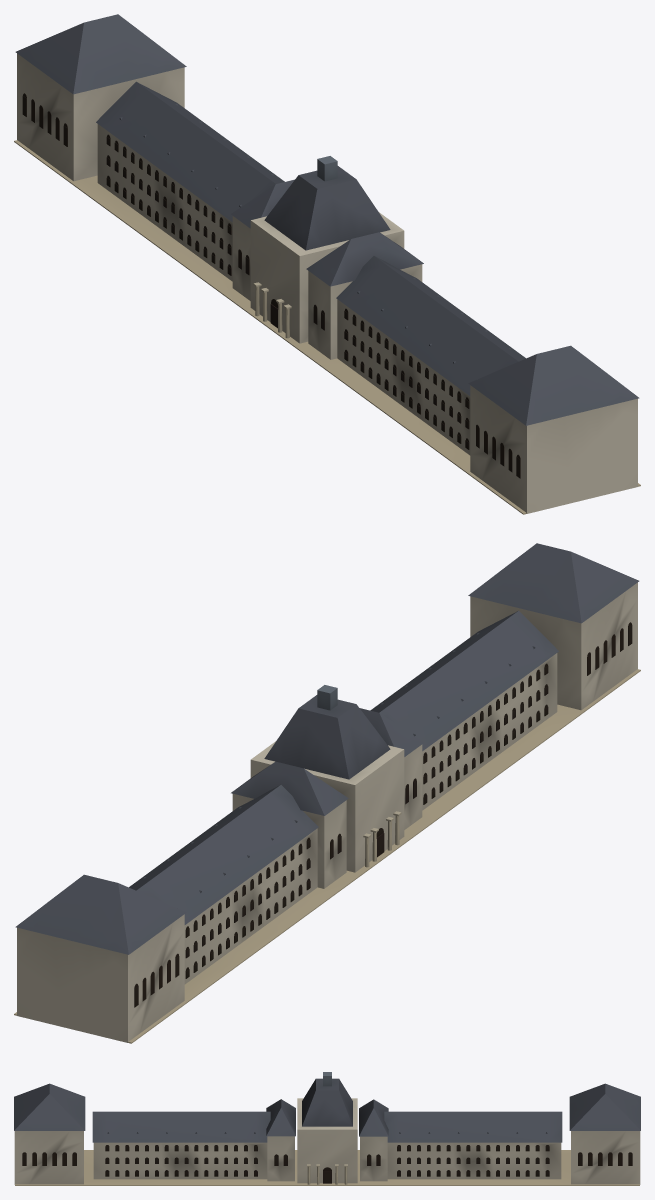
File: tuileries.glb
3 renders of one model, top to bottom at view 1: azimuth 30°, elevation 25°; view 2: azimuth 150°, elevation 25°; view 3: azimuth 270°, elevation 25°, orthographic. The views are drawn at different scales.
Parts seen in each view (by area): view 1: p1_pavilions, p0_wings; view 2: p1_pavilions, p0_wings; view 3: p0_wings, p1_pavilions.
Boxes of the visible parts, left/top/right/bottom form: p1_pavilions: left=15, top=14, right=639, bottom=513; p0_wings: left=14, top=81, right=640, bottom=514; p1_pavilions: left=15, top=543, right=639, bottom=1042; p0_wings: left=14, top=610, right=640, bottom=1043; p0_wings: left=15, top=1111, right=639, bottom=1185; p1_pavilions: left=14, top=1072, right=640, bottom=1184.
Size of the model in its own units: 35.99 by 45.11 by 271.
